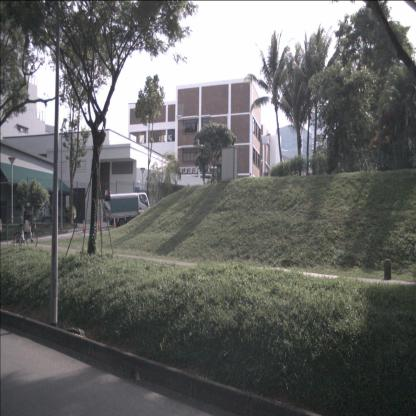movable_object-trafficcone: (82, 218, 86, 233), (113, 216, 117, 229), (97, 219, 101, 230)
vehicle-bicycle: (13, 215, 38, 249)
vehicle-truck: (103, 192, 150, 228)
